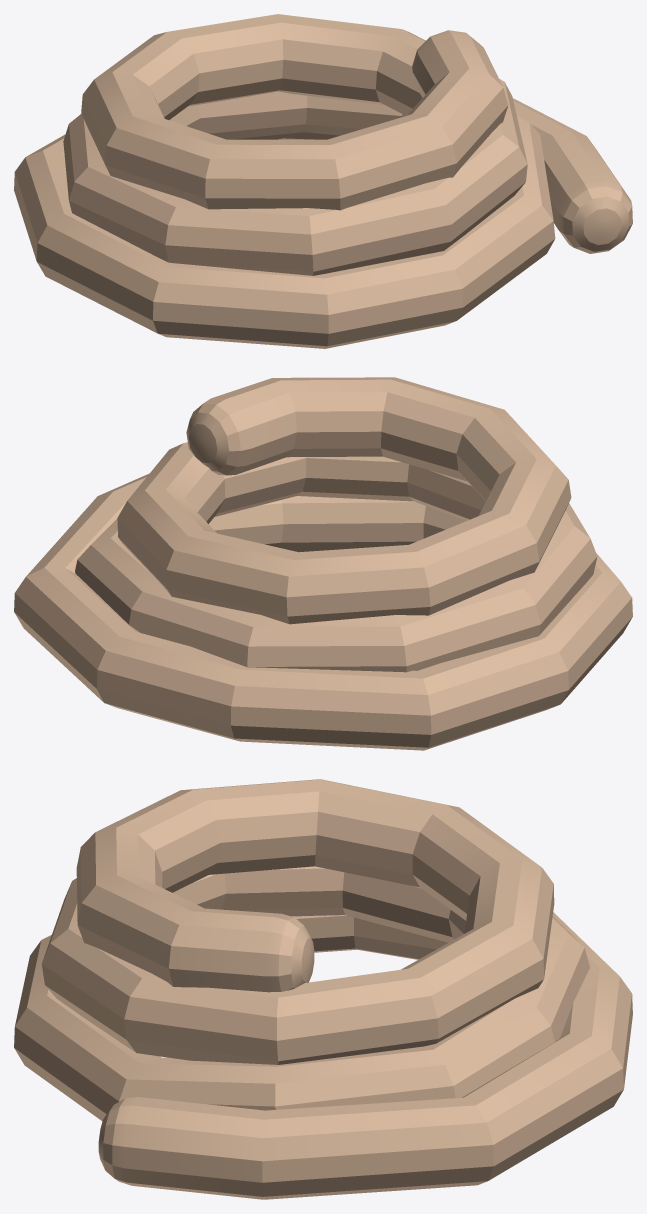
Rendered from rope.glb.
3 renders of one model, top to bottom at view 1: azimuth 30°, elevation 25°; view 2: azimuth 150°, elevation 25°; view 3: azimuth 270°, elevation 25°, orthographic. The views are drawn at different scales.
Parts seen in each view (by area): view 1: rope; view 2: rope; view 3: rope.
Part boxes in pixels (x1,y1,x2,y2): rope: [14, 14, 632, 348]; rope: [14, 377, 632, 750]; rope: [14, 779, 632, 1199].
Bounding box in the file's own units: 0.7107 × 0.2527 × 0.649.
Materials: 1 (1 with a texture image).
